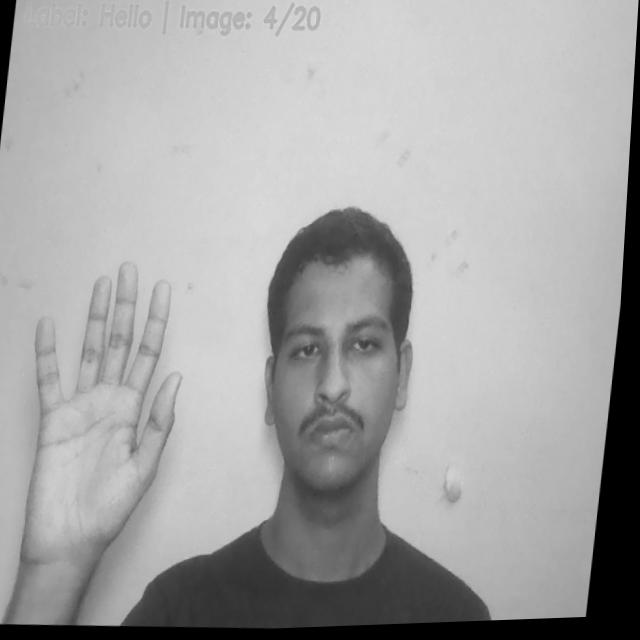Hello: (20, 253, 199, 574)
